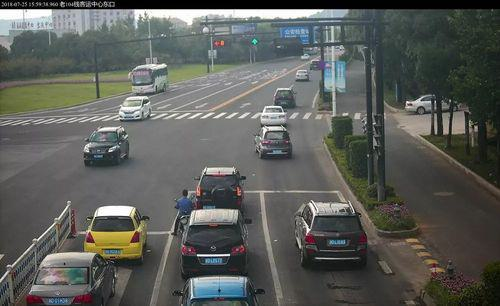bus: (120, 62, 170, 95)
car: (171, 204, 251, 299), (17, 249, 109, 305), (297, 198, 366, 264), (187, 157, 254, 213), (85, 209, 147, 261), (78, 123, 130, 169), (256, 123, 296, 167), (121, 89, 150, 125), (272, 84, 302, 106), (261, 103, 286, 128), (294, 66, 311, 82)
